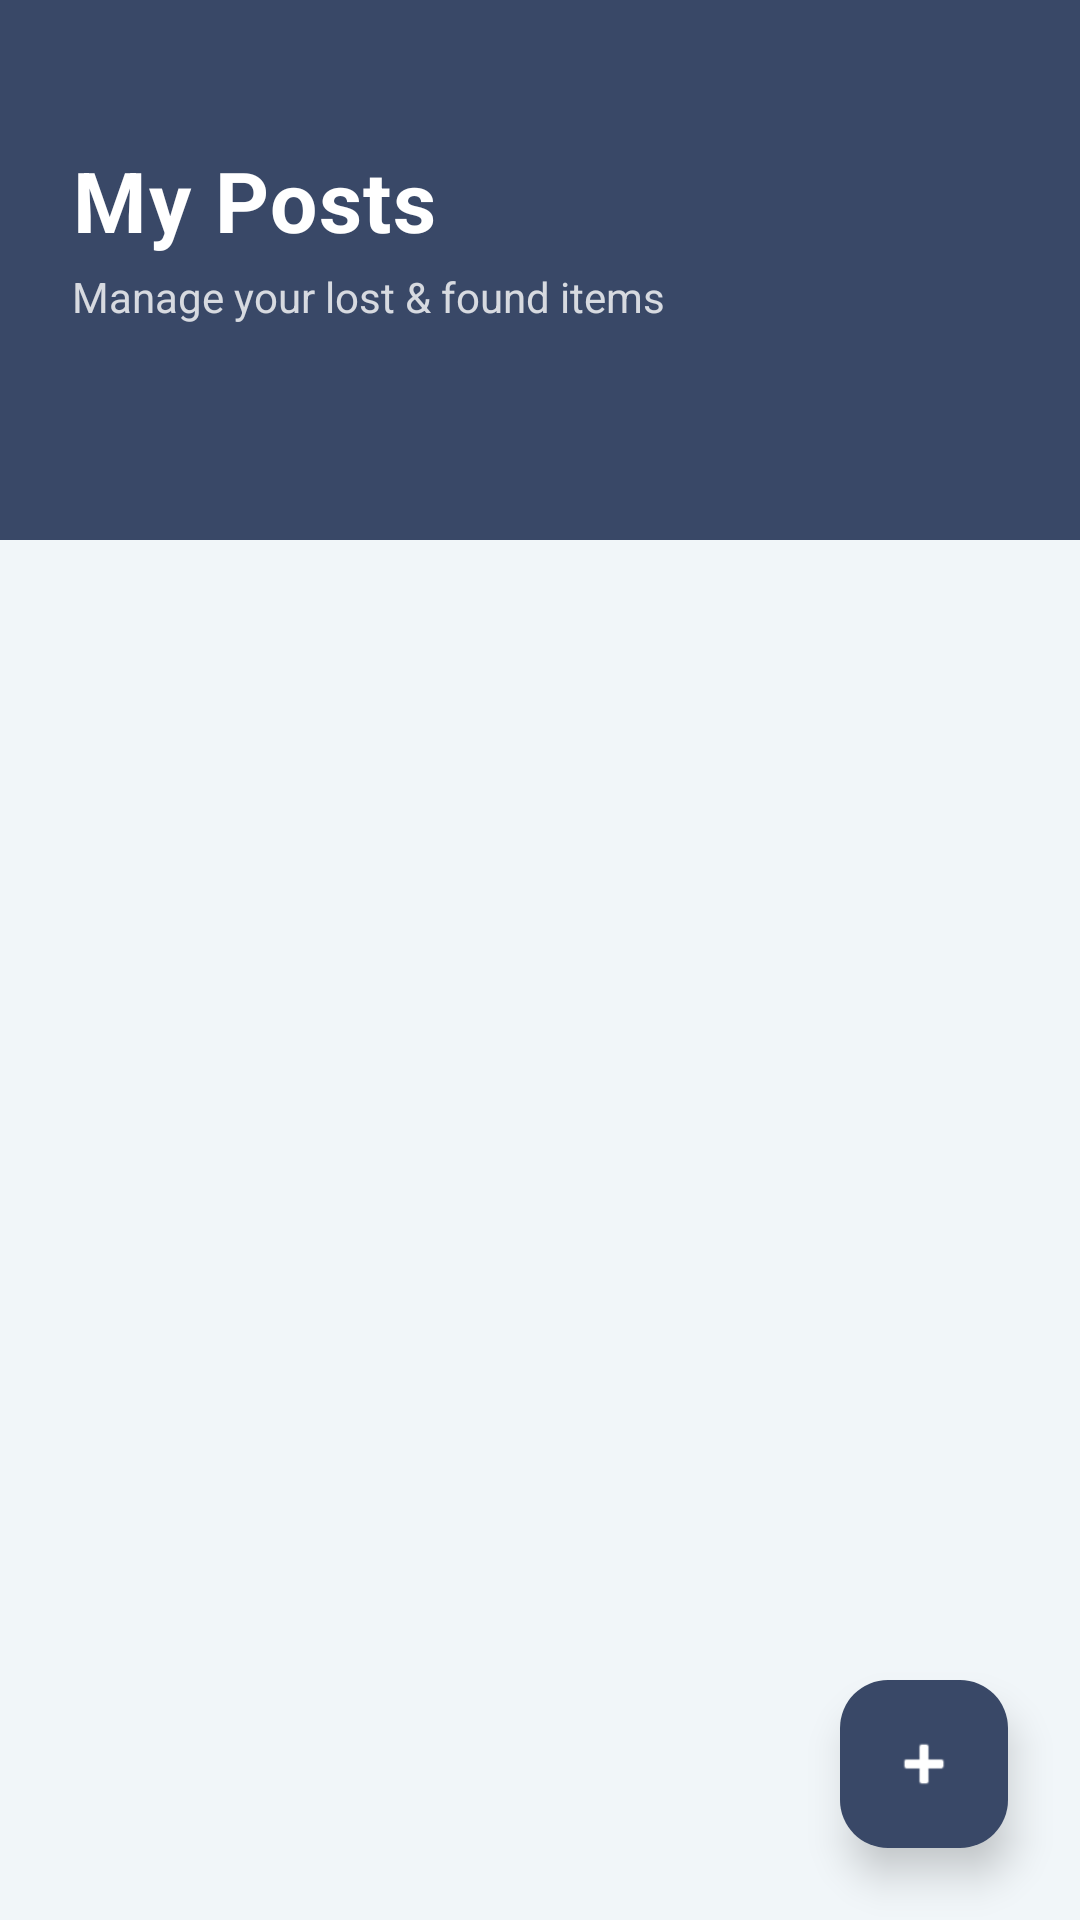

Locate icon controls on the screen. Image size 1080*1920, boxes as {"x1": x1, "y1": y1, "x2": x2, "y2": y2}.
Add Post: {"x1": 840, "y1": 1680, "x2": 1008, "y2": 1848}
